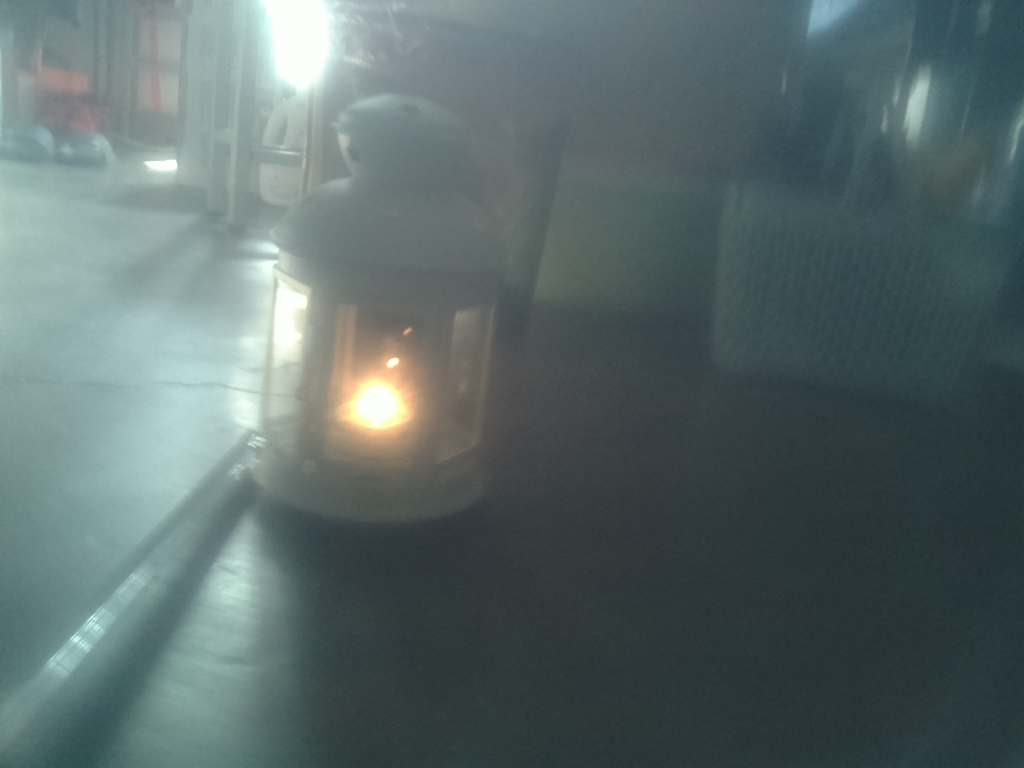fire: (337, 360, 431, 454)
